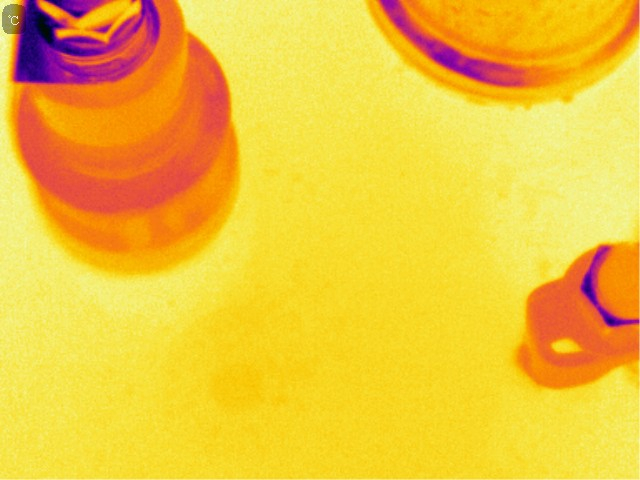Oil: (202, 329, 277, 411)
